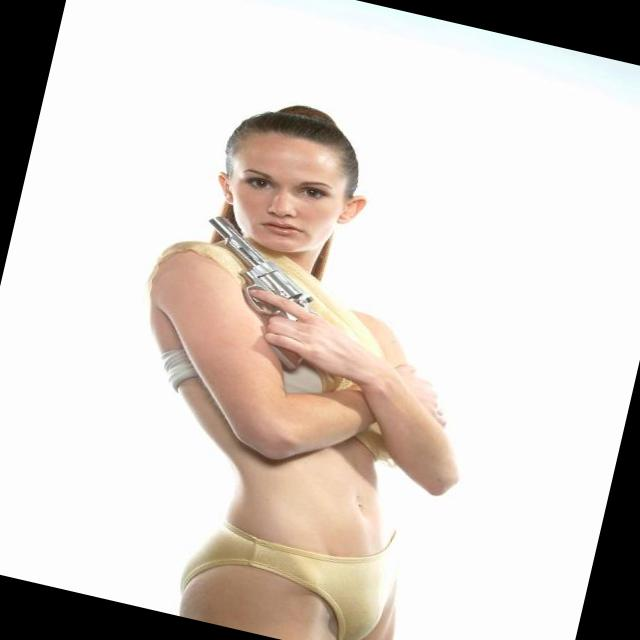Gun: (208, 217, 312, 316), (273, 347, 300, 369)
